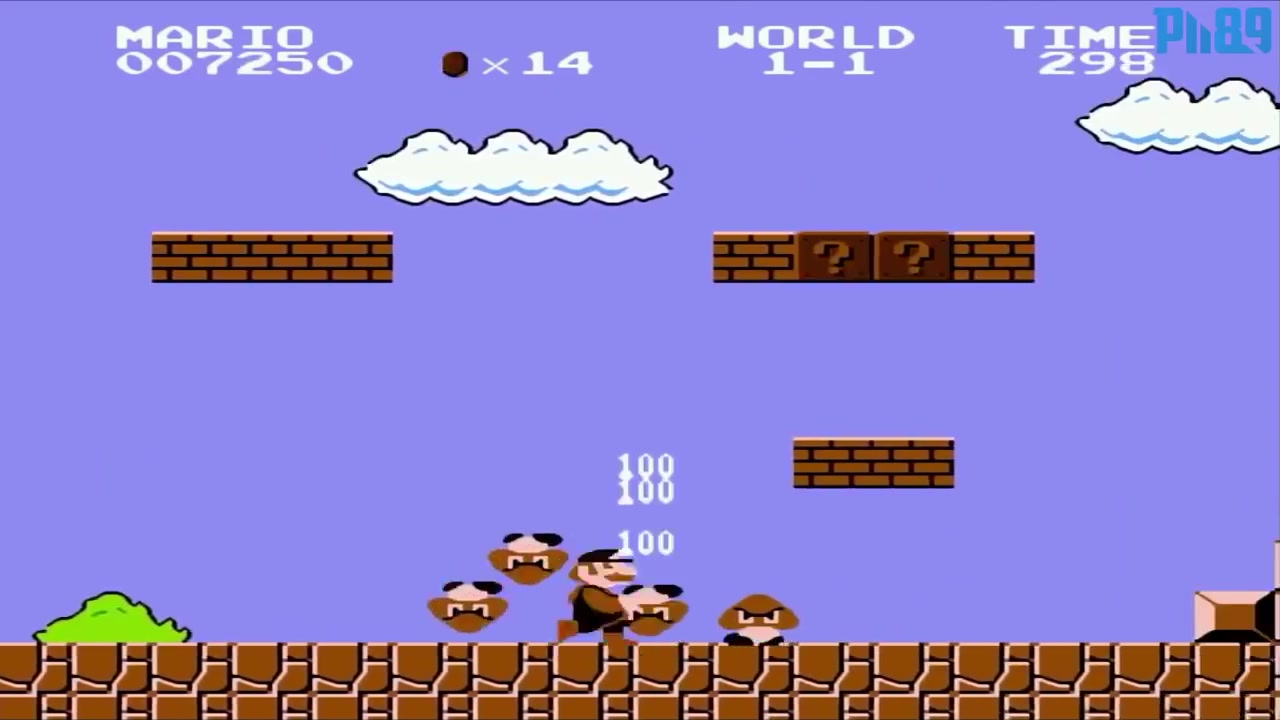mario: (550, 541, 645, 644)
